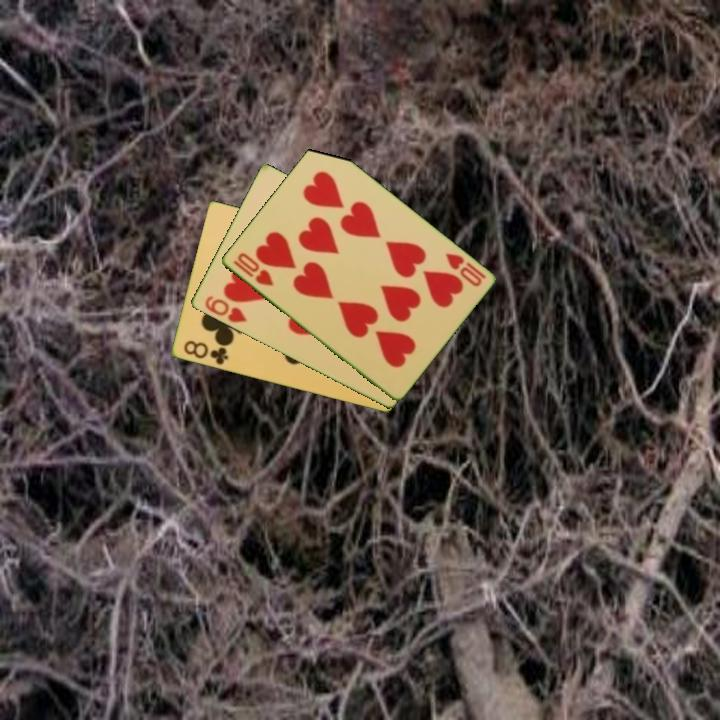10h: (441, 249, 488, 290), (229, 249, 276, 289)
6h: (201, 292, 250, 326)
8c: (180, 337, 231, 368)
